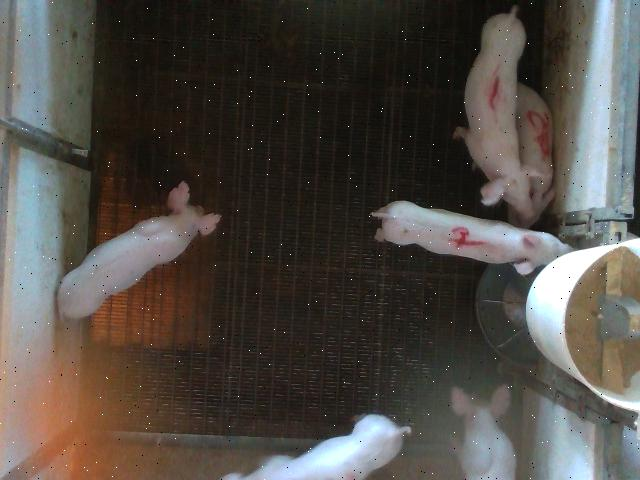pig-1: (454, 6, 531, 213)
pig-5: (509, 82, 555, 226)
